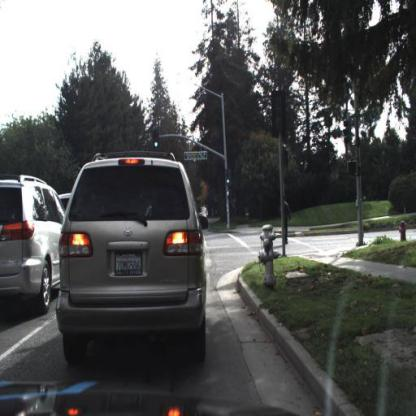car: (60, 151, 208, 361), (1, 171, 65, 312)
pedestrian: (279, 190, 293, 250)
trafficLight-Green: (153, 130, 161, 151), (224, 171, 232, 188)
